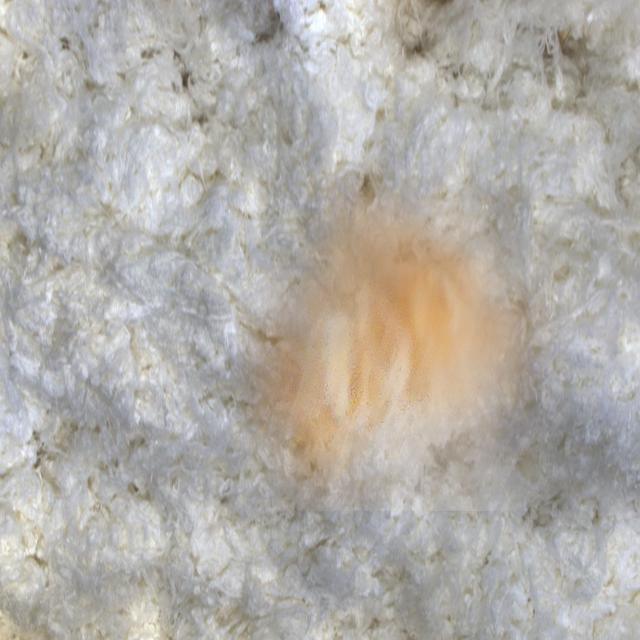dust: (237, 142, 570, 511)
